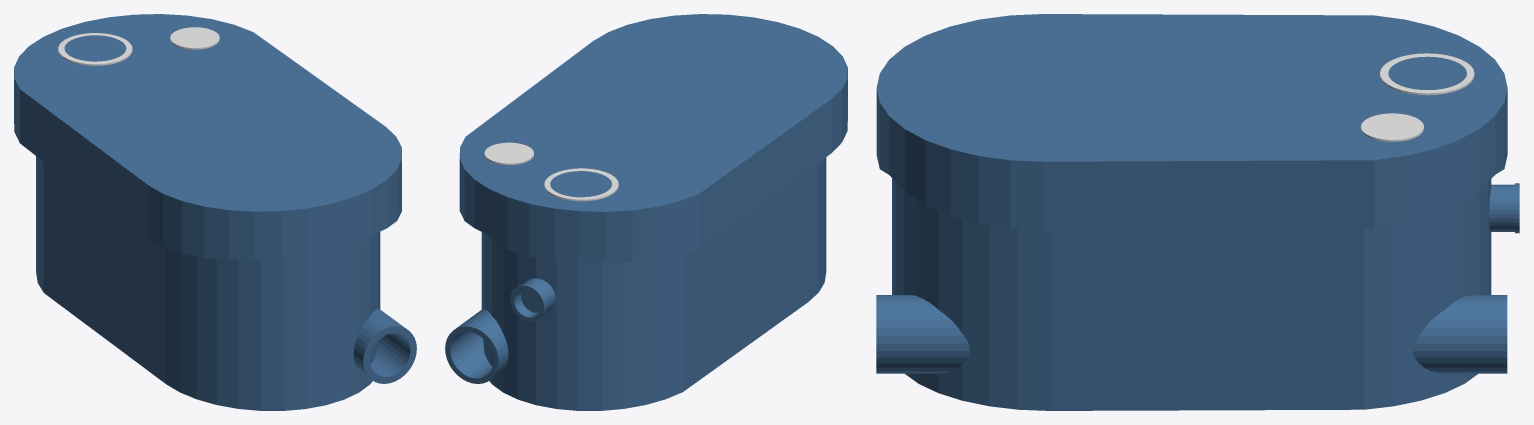
File: sanishower-+.glb
3 views of the same model, side by side, from view 1: azimuth 30°, elevation 25°; view 2: azimuth 150°, elevation 25°; view 3: azimuth 270°, elevation 25° (orthographic). The views are drawn at different scales.
Visible parts, largest first — view 1: Product1, Cylinder, Cylinder.003, Cylinder.002, Cylinder.001; view 2: Product1, Cylinder, Cylinder.005, Cylinder.003, Cylinder.002, Cylinder.001; view 3: Product1, Cylinder, Cylinder.003, Cylinder.005, Cylinder.002, Cylinder.001.
Boxes of the visible parts, x1,y1,x2,y2 form: Product1: [14, 14, 401, 410]; Cylinder: [353, 308, 416, 383]; Cylinder.003: [64, 35, 126, 61]; Cylinder.002: [170, 27, 219, 49]; Cylinder.001: [58, 33, 132, 65]; Product1: [459, 14, 847, 410]; Cylinder: [445, 308, 508, 383]; Cylinder.005: [510, 278, 555, 321]; Cylinder.003: [550, 171, 611, 197]; Cylinder.002: [484, 142, 533, 164]; Cylinder.001: [544, 168, 618, 201]; Product1: [876, 14, 1507, 410]; Cylinder: [876, 295, 1507, 373]; Cylinder.003: [1388, 56, 1466, 89]; Cylinder.005: [1489, 183, 1519, 233]; Cylinder.002: [1361, 113, 1423, 141]; Cylinder.001: [1380, 53, 1474, 95].
Size of the model in its own units: 2.22 by 1.85 by 4.08.
